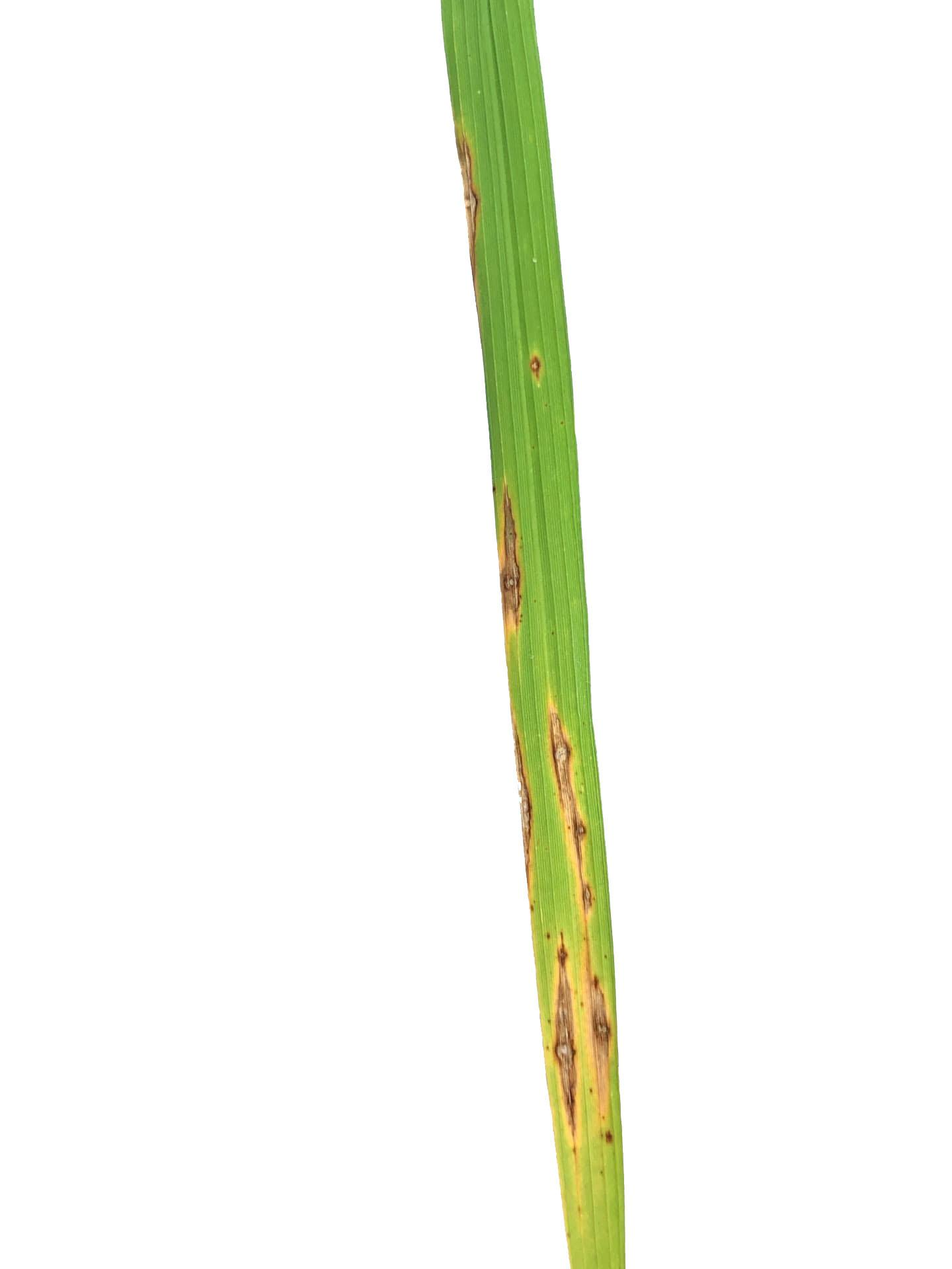Rice blast: (546, 694, 601, 908), (548, 945, 593, 1147), (492, 475, 538, 636), (579, 963, 620, 1110), (459, 128, 491, 252), (528, 331, 553, 405)
